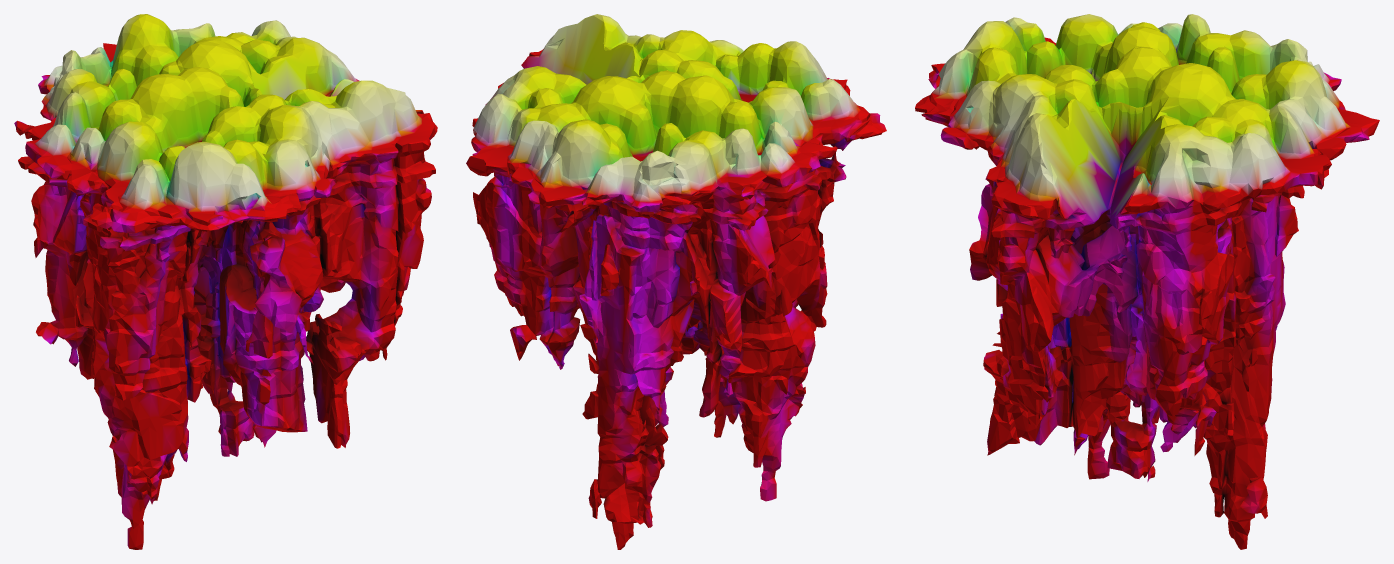
The model's file is island-fingers.glb.
3 renders of one model, left to right at view 1: azimuth 30°, elevation 25°; view 2: azimuth 150°, elevation 25°; view 3: azimuth 270°, elevation 25°, orthographic. The views are drawn at different scales.
Size of the model in its own units: 148 by 186 by 157.
